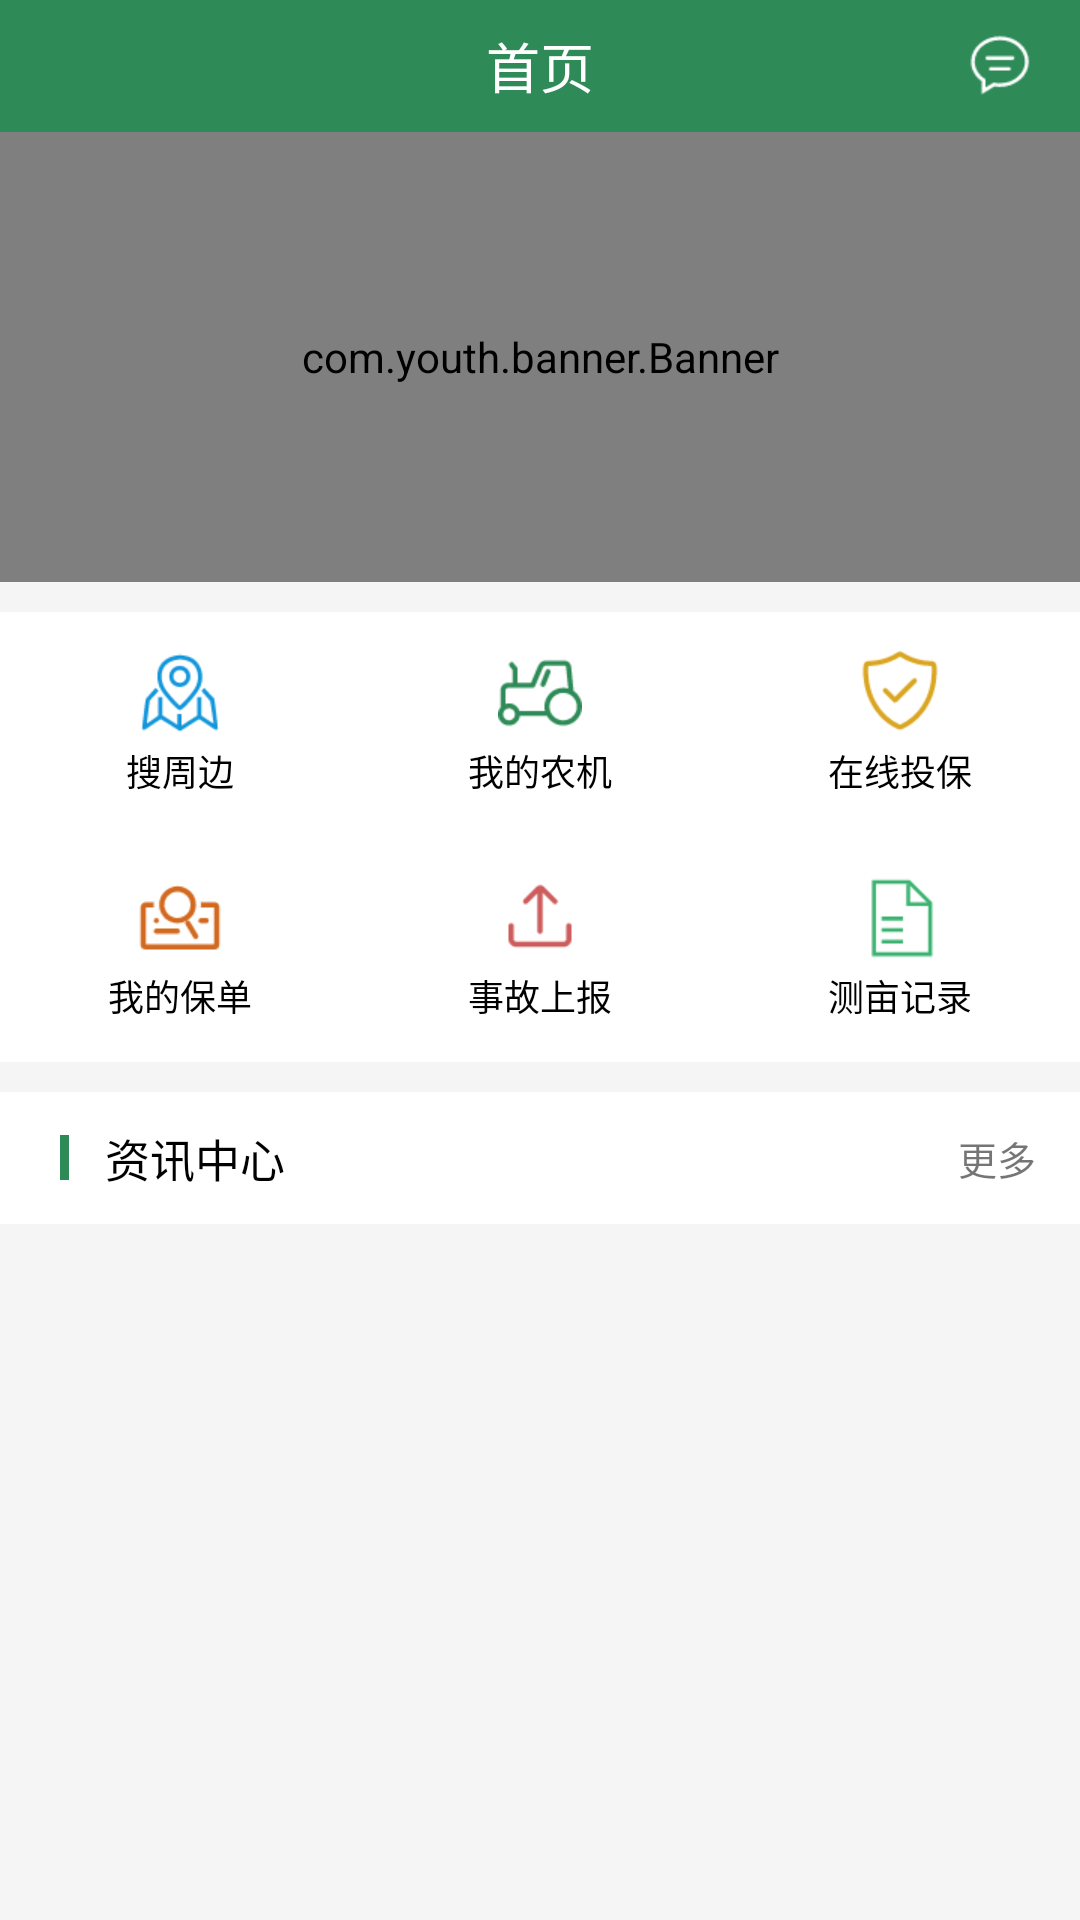

Named icons in this screenshot (1080w x 1920h) and their bounding boxes, [x1=x1, y1=y1, x2=x2, y2=y2]:
home bill: [x1=139, y1=885, x2=221, y2=950]
home car: [x1=498, y1=660, x2=582, y2=726]
home message: [x1=970, y1=35, x2=1030, y2=95]
home safe: [x1=862, y1=651, x2=938, y2=731]
